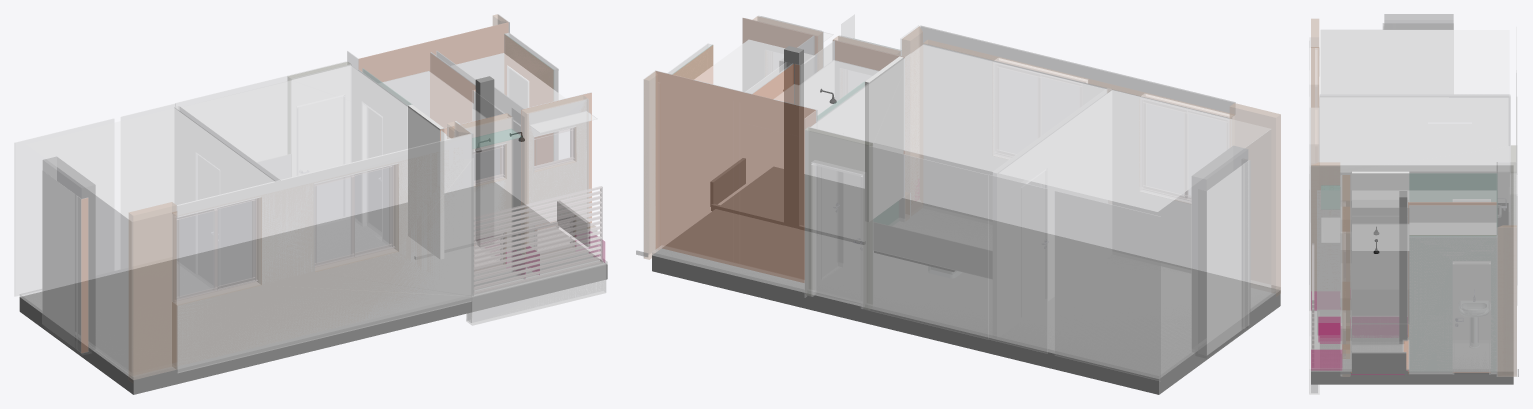
Rendered from 0408_apto3oandar_transp.fbx.
3 renders of one model, left to right at view 1: azimuth 30°, elevation 25°; view 2: azimuth 150°, elevation 25°; view 3: azimuth 270°, elevation 25°, orthographic. The views are drawn at different scales.
Visible parts, largest first — view 1: Paint - Light Gray, Pintura - Branco Polido, Pintura - Branco Titânio, IFC Surface, Drywall ST - Chapa Standard, Estuque - Branco, AZULEJO OFF WHITE, Metal - Alumínio, Vidro - Simples, Estuque - Branco Suave, Tijolo - Bloco de Construção, Isolamento - Manta Líquida (+6 smaller); view 2: Paint - Light Gray, Pintura - Branco Titânio, AZULEJO OFF WHITE, Drywall ST - Chapa Standard, Isolamento - Manta Líquida, Estuque - Branco, Pintura - Branco Polido, IFC Surface, Estuque - Branco Suave, Tijolo - Bloco de Construção, Vidro - Simples, Ar (+7 smaller); view 3: Paint - Light Gray, Pintura - Branco Titânio, IFC Surface, Estuque - Branco Suave, Estuque - Branco, Pintura - Branco Polido, AZULEJO OFF WHITE, Ar, Drywall ST - Chapa Standard, Tijolo - Bloco de Construção, IFC Surface (18), IFC Surface (1) (+10 smaller).
Boxes of the visible parts, left/top/right/bottom form: Paint - Light Gray: left=19, top=76, right=607, bottom=394; Pintura - Branco Polido: left=178, top=66, right=605, bottom=372; Pintura - Branco Titânio: left=42, top=53, right=596, bottom=372; IFC Surface: left=174, top=33, right=597, bottom=372; Drywall ST - Chapa Standard: left=14, top=51, right=475, bottom=296; Estuque - Branco: left=26, top=108, right=274, bottom=221; AZULEJO OFF WHITE: left=20, top=22, right=607, bottom=379; Metal - Alumínio: left=173, top=127, right=602, bottom=302; Vidro - Simples: left=179, top=131, right=570, bottom=295; Estuque - Branco Suave: left=43, top=14, right=605, bottom=352; Tijolo - Bloco de Construção: left=129, top=14, right=507, bottom=382; Isolamento - Manta Líquida: left=81, top=23, right=508, bottom=352; Paint - Light Gray: left=652, top=46, right=1280, bottom=394; Pintura - Branco Titânio: left=694, top=32, right=1270, bottom=355; AZULEJO OFF WHITE: left=652, top=36, right=1280, bottom=378; Drywall ST - Chapa Standard: left=745, top=62, right=1160, bottom=381; Isolamento - Manta Líquida: left=656, top=64, right=815, bottom=282; Estuque - Branco: left=999, top=90, right=1270, bottom=211; Pintura - Branco Polido: left=760, top=14, right=1235, bottom=317; IFC Surface: left=667, top=15, right=1235, bottom=333; Estuque - Branco Suave: left=643, top=25, right=1249, bottom=354; Tijolo - Bloco de Construção: left=644, top=26, right=1280, bottom=296; Vidro - Simples: left=774, top=53, right=1225, bottom=195; Ar: left=865, top=56, right=903, bottom=221; Paint - Light Gray: left=1311, top=165, right=1513, bottom=384; Pintura - Branco Titânio: left=1320, top=29, right=1509, bottom=250; IFC Surface: left=1309, top=37, right=1510, bottom=376; Estuque - Branco Suave: left=1309, top=23, right=1516, bottom=394; Estuque - Branco: left=1320, top=30, right=1509, bottom=94; Pintura - Branco Polido: left=1309, top=122, right=1517, bottom=394; AZULEJO OFF WHITE: left=1311, top=23, right=1509, bottom=375; Ar: left=1352, top=171, right=1409, bottom=289; Drywall ST - Chapa Standard: left=1408, top=27, right=1517, bottom=339; Tijolo - Bloco de Construção: left=1311, top=19, right=1516, bottom=376; IFC Surface (18): left=1409, top=173, right=1497, bottom=236; IFC Surface (1): left=1311, top=47, right=1350, bottom=376.
Bounding box in the file's own units: 887 × 363 × 326.
